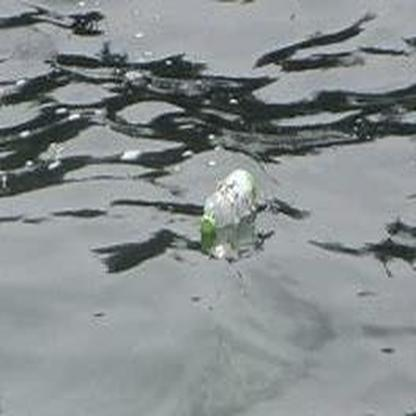plastic bottle: (199, 170, 258, 232)
